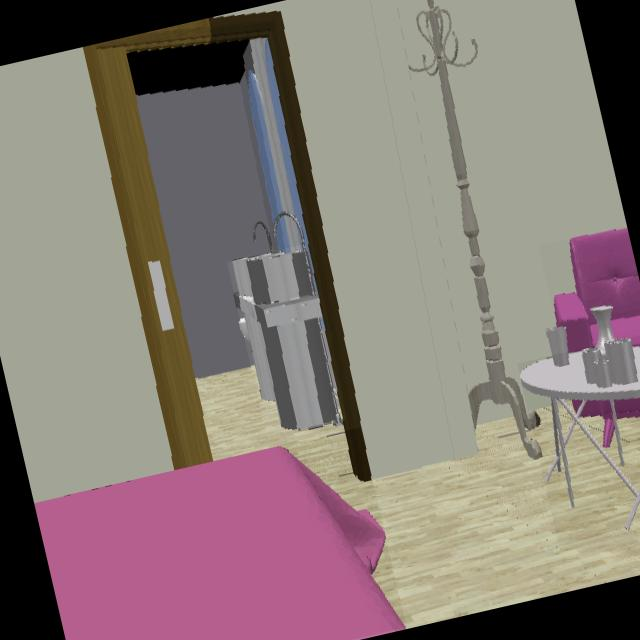bed: (34, 447, 406, 640)
sofa: (553, 227, 640, 354)
table: (520, 338, 640, 530)
washbasin: (233, 253, 336, 431)
